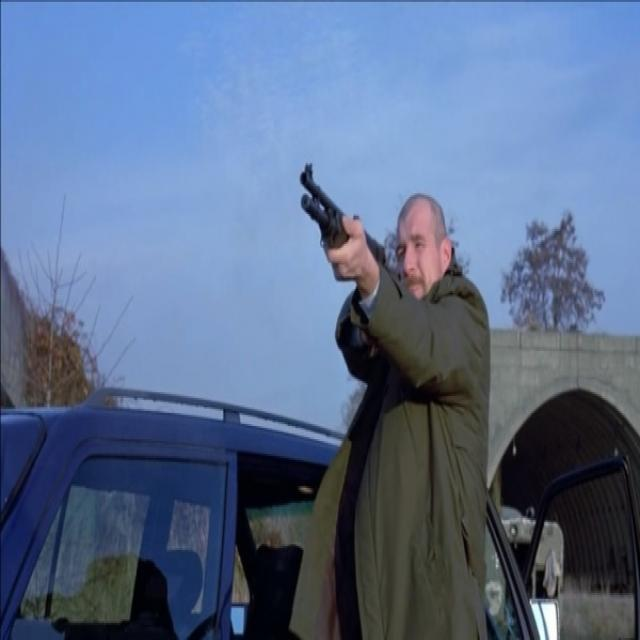rifle: (296, 152, 391, 273)
